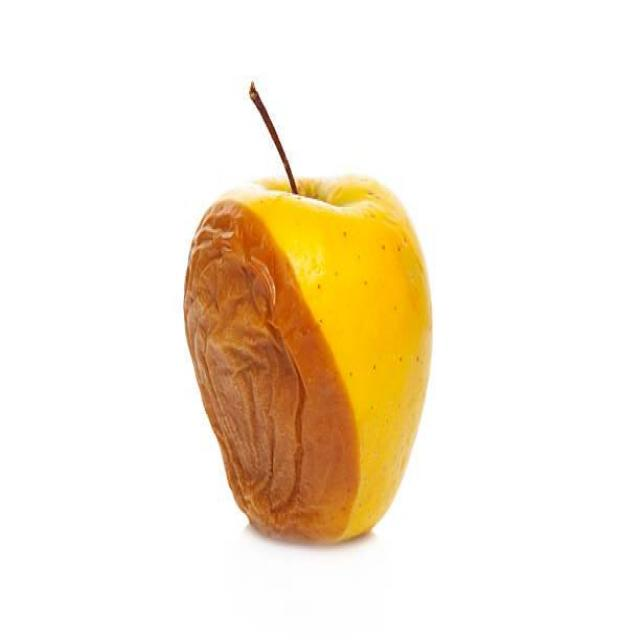Rotten: (184, 168, 434, 550)
